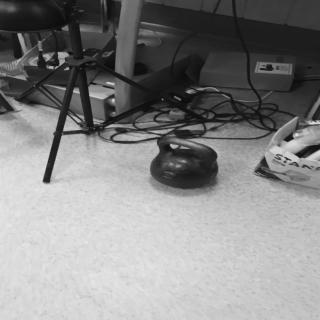kettlebell: (154, 139, 222, 189)
